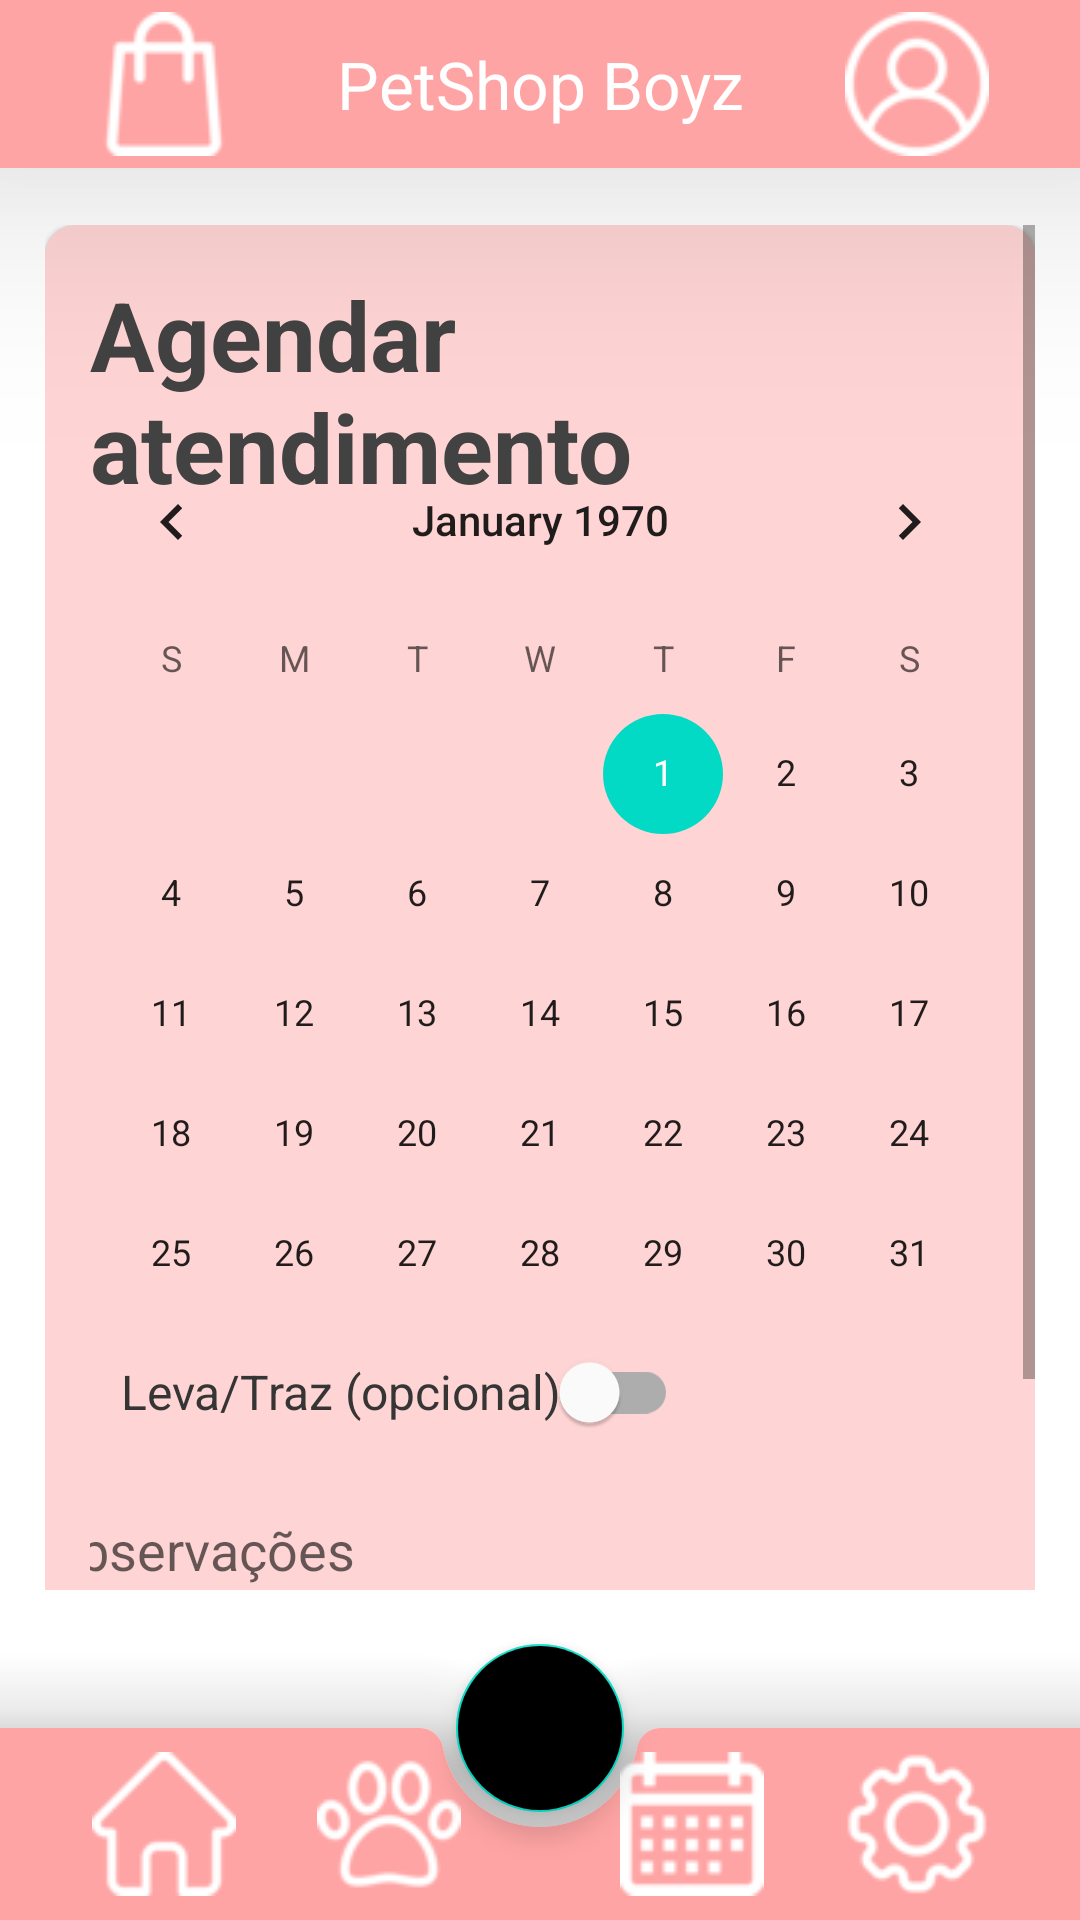

Point at icon controls on the screen. Image size 1080x1920, points as [x,y].
calendar: [691,1824]
home: [164,1824]
pet: [388,1824]
setting: [917,1824]
user: [917,84]
